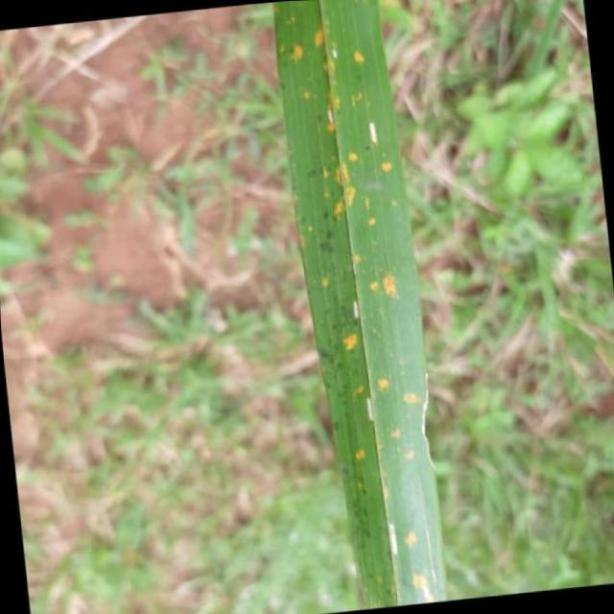Kalium: (273, 0, 449, 612)
